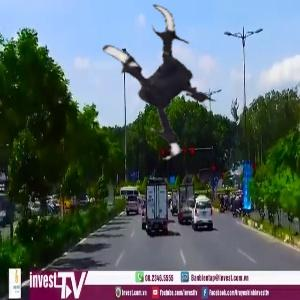drone: (74, 2, 232, 160)
